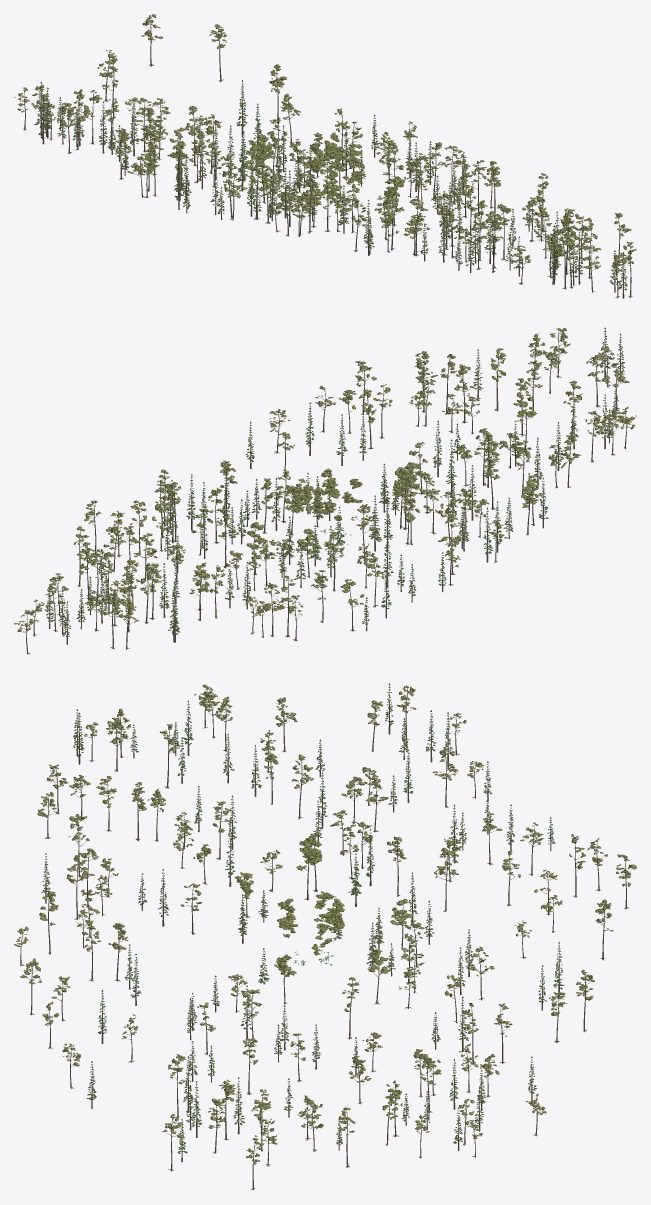
The model's file is felsmulde-gruen.glb.
The picture shows the model from 3 angles, top to bottom: view 1: azimuth 30°, elevation 25°; view 2: azimuth 150°, elevation 25°; view 3: azimuth 270°, elevation 25°; orthographic projection. The views are drawn at different scales.
Parts seen in each view (by area): view 1: WaldLaub, WaldHolz, WaldNadeln; view 2: WaldLaub, WaldHolz, WaldNadeln; view 3: WaldLaub, WaldHolz, WaldNadeln.
Part boxes in pixels (x1,y1,x2,y2): WaldLaub: [14, 14, 636, 274]; WaldHolz: [21, 19, 632, 298]; WaldNadeln: [34, 80, 627, 290]; WaldLaub: [14, 328, 636, 631]; WaldHolz: [20, 329, 630, 654]; WaldNadeln: [46, 327, 624, 636]; WaldLaub: [14, 684, 636, 1164]; WaldHolz: [19, 685, 631, 1190]; WaldNadeln: [41, 683, 564, 1153].
Bounding box in the file's own units: 295 × 141 × 297.
